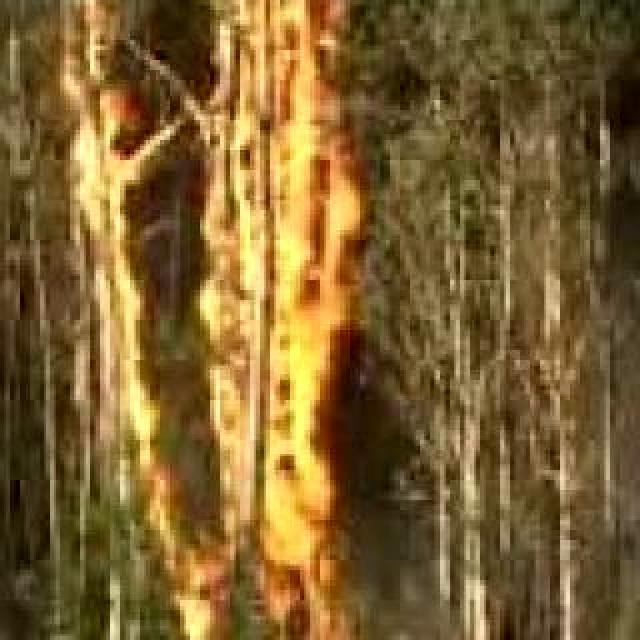fire: (68, 0, 358, 640)
